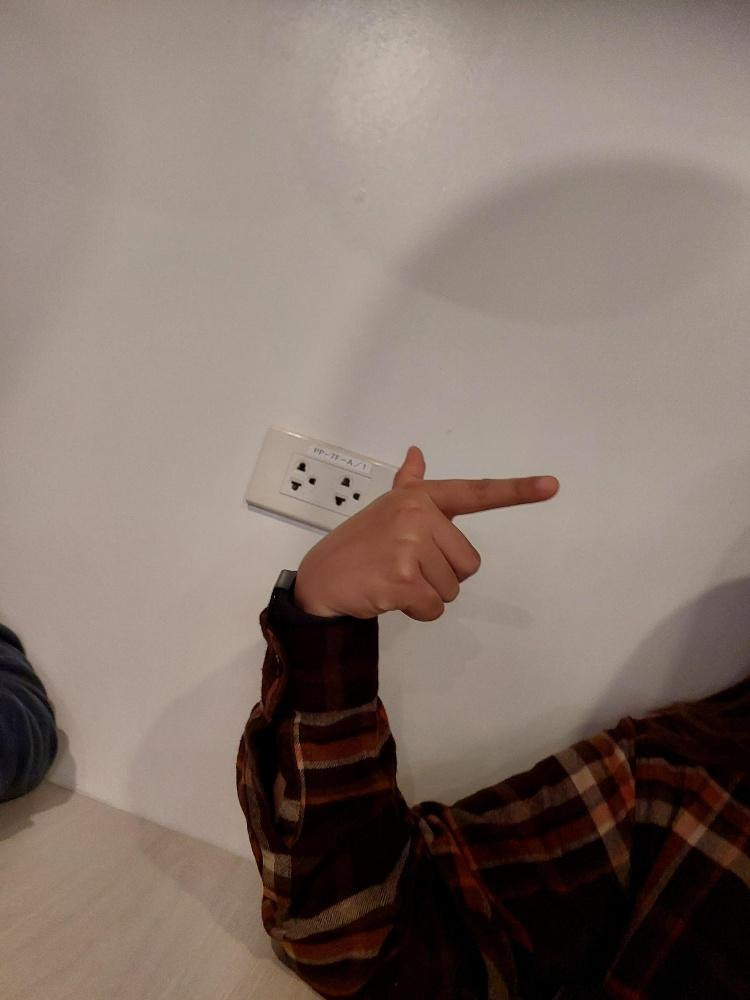g: (288, 439, 564, 625)
